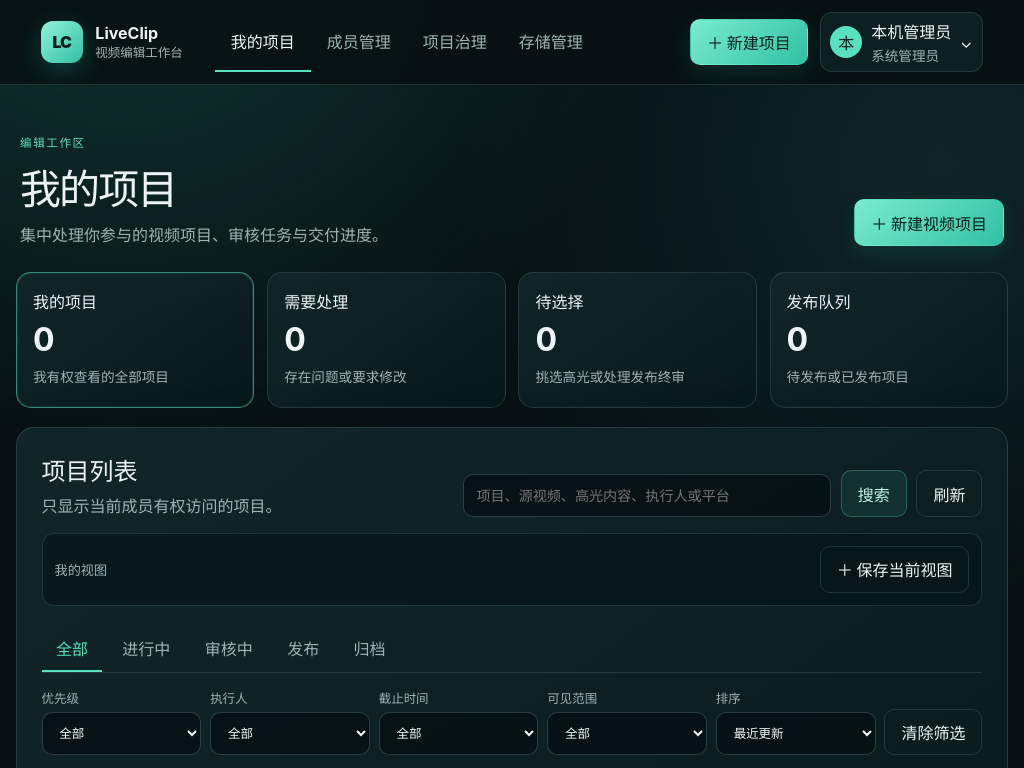
Scenario: project list states › keeps provider diagnostics out of the dashboard and blocks unavailable processing
The width and height of the screenshot is (1024, 768).
What coordinates should you click on to do the following:
click the button with aria-label "打开账户与系统设置"
I would click on:
 (901, 42)
Its box is x1=820 y1=12 x2=983 y2=72.
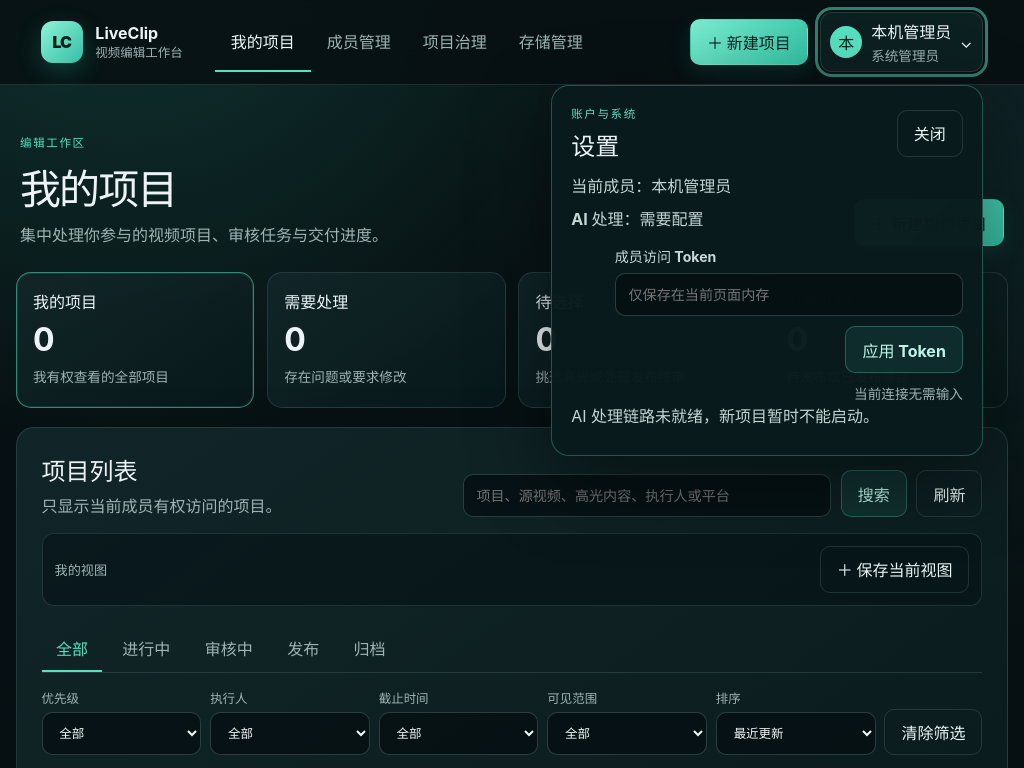
Expected: the text "AI 处理链路未就绪，新项目暂时不能启动。" is shown, x1=571 y1=406 x2=879 y2=426
What coordinates should you click on to do the following:
click the button "＋ 新建项目"
I would click on:
 (749, 42)
Its box is x1=690 y1=19 x2=808 y2=65.
(page scrolled)
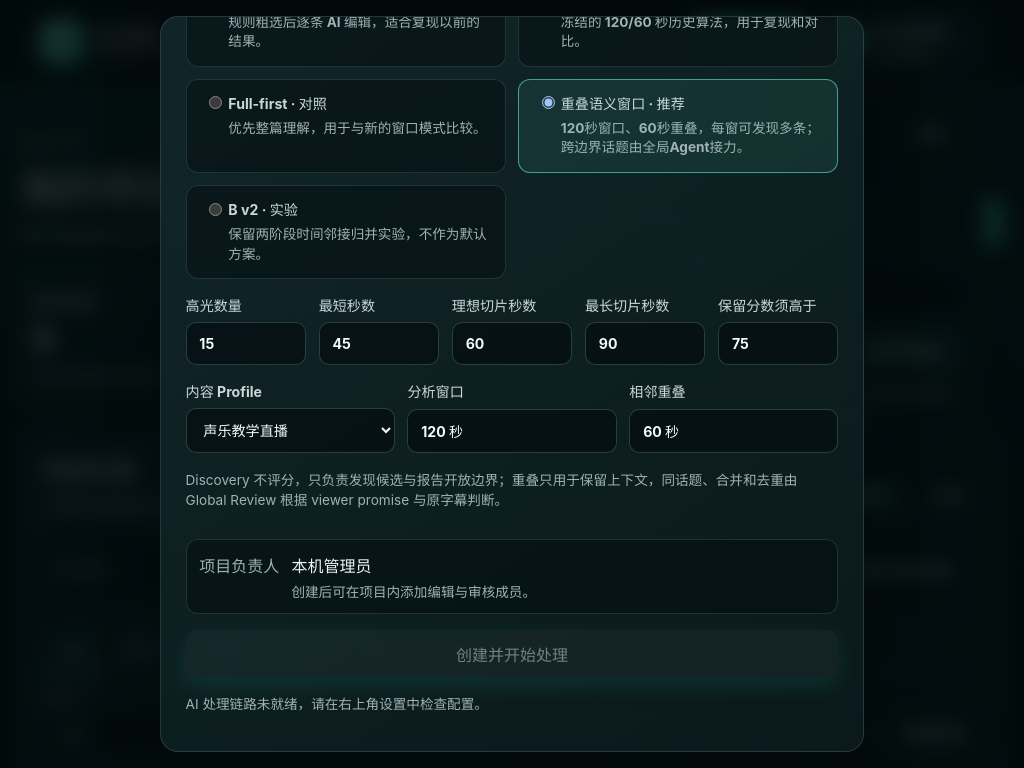
Expected: the button "创建并开始处理" is disabled, x1=186 y1=630 x2=838 y2=677
Expected: the text "AI 处理链路未就绪，请在右上角设置中检查配置。" is shown, x1=186 y1=696 x2=488 y2=712
